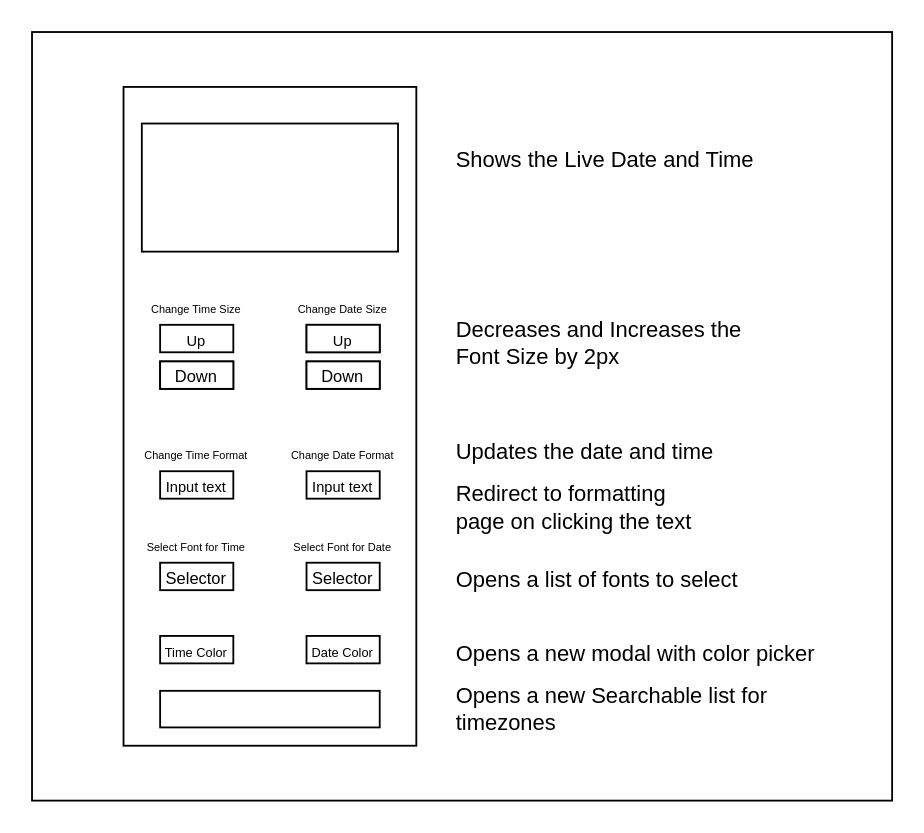
The diagram is 924 pixels wide and 833 high, and some of its shapes have lost their labels. The centre of each missing label's shape, as x and y in pixels:
"Select Timezone" belongs at (x=269, y=708).
"Time Date" belongs at (x=269, y=187).
